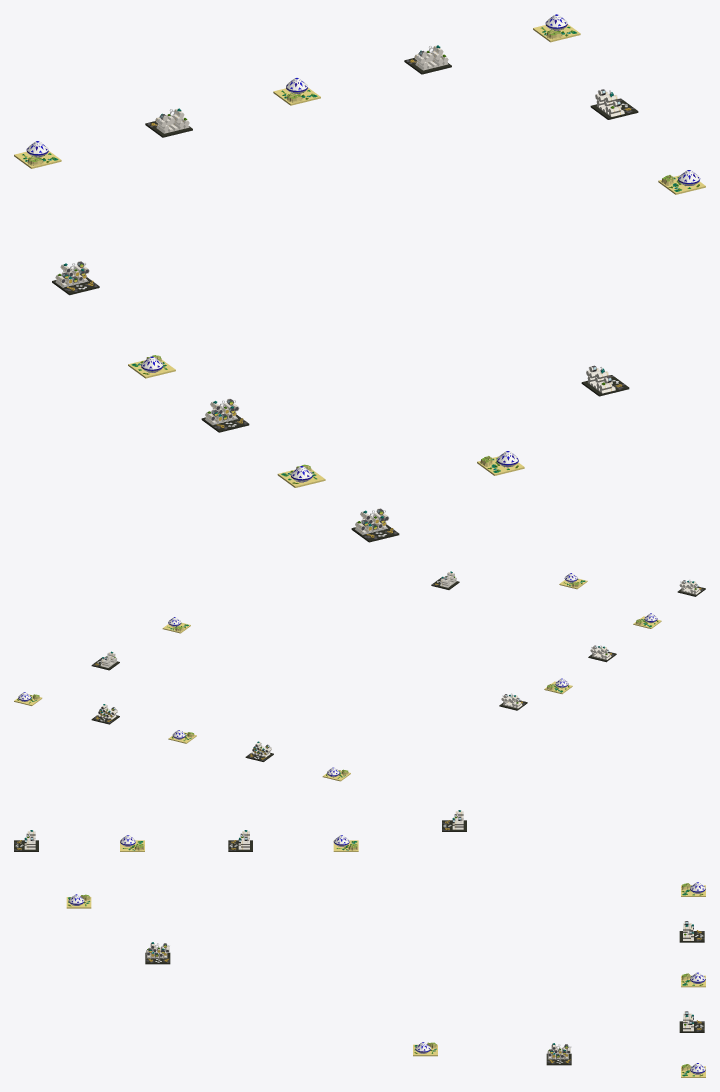
Rendered from D9_White_area_1.fbx.
The picture shows the model from 3 angles, top to bottom: view 1: azimuth 30°, elevation 25°; view 2: azimuth 150°, elevation 25°; view 3: azimuth 270°, elevation 25°; orthographic projection. The views are drawn at different scales.
Visible parts, largest first — view 1: Cube.329, Cube.327, Cube.331, Cube.323, Cube.325, Cube.022, Cube.320; view 2: Cube.022, Cube.320; view 3: Cube.323, Cube.325.
Boxes of the visible parts, x1,y1,x2,y2 form: Cube.329: (201,398,249,432); Cube.327: (351,508,399,542); Cube.331: (52,261,99,295); Cube.323: (590,89,638,119); Cube.325: (581,365,629,396); Cube.022: (145,108,192,137); Cube.320: (404,45,451,74); Cube.022: (245,741,273,761); Cube.320: (91,704,119,724); Cube.323: (546,1043,571,1065); Cube.325: (145,942,170,964).
Bounding box in the file's own units: 89726 × 6107 × 110955.
Materials: 11 (9 with a texture image).
